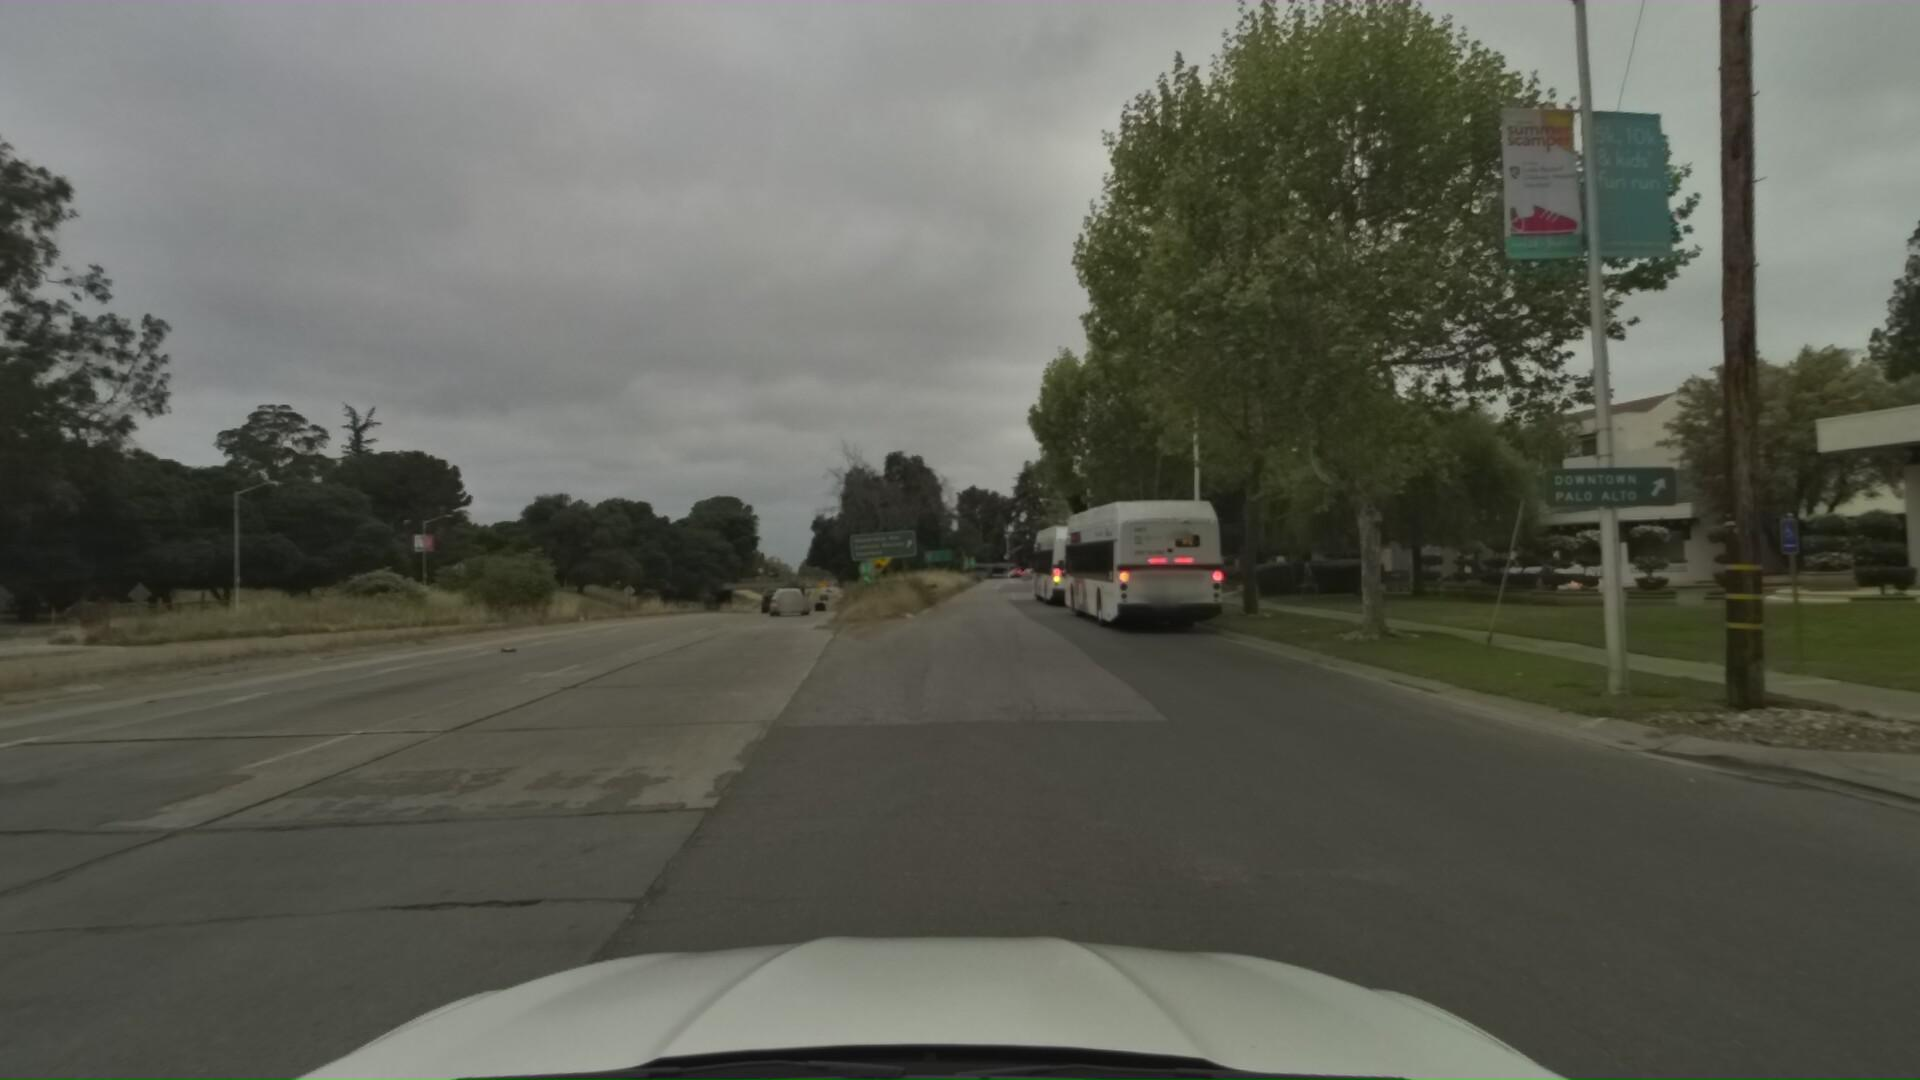bus: (1054, 475, 1244, 636), (1026, 509, 1126, 607)
car: (1520, 547, 1629, 600), (767, 572, 815, 611), (756, 579, 793, 611)
